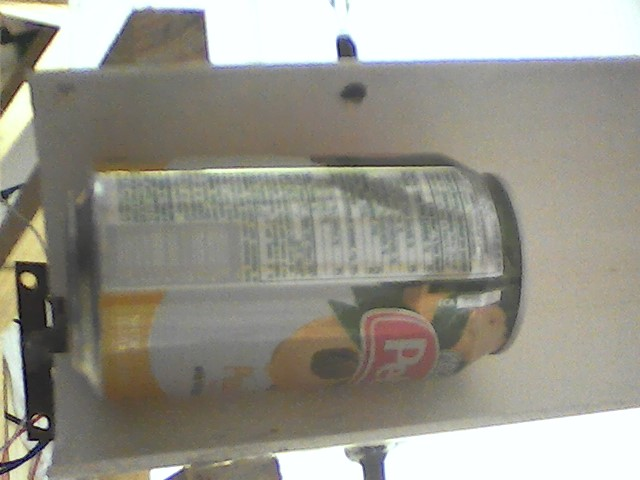lata: (60, 149, 537, 414)
